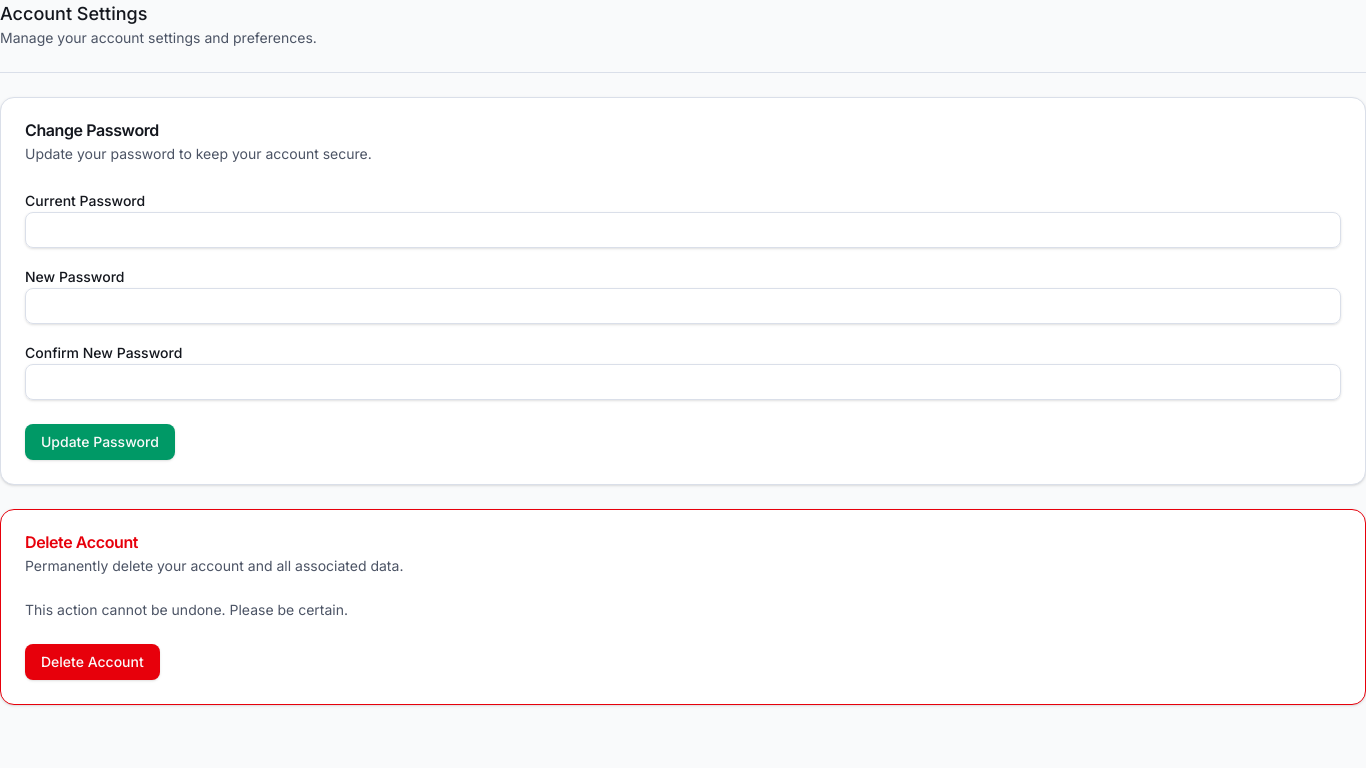
Test case: DashboardSettings › disables the button while deletion is in progress
Click the button "Delete Account".
click(92, 662)  # box x1=25 y1=644 x2=160 y2=680
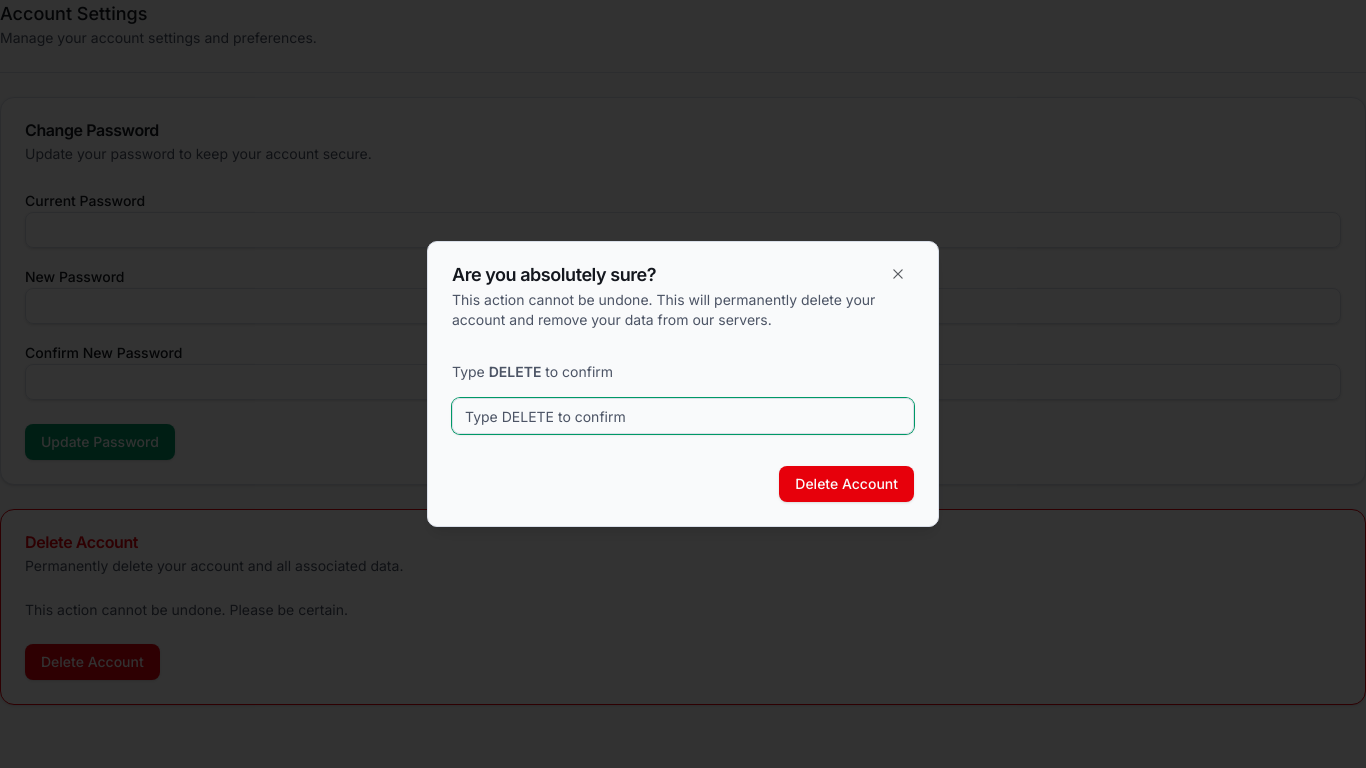
Expected: the heading "Are you absolutely sure?" is shown, x1=452 y1=264 x2=656 y2=285
// Type DELETE
Type "DELETE" into the field with placeholder "Type DELETE to confirm".
click(683, 416); type("DELETE")  # box x1=452 y1=398 x2=914 y2=434
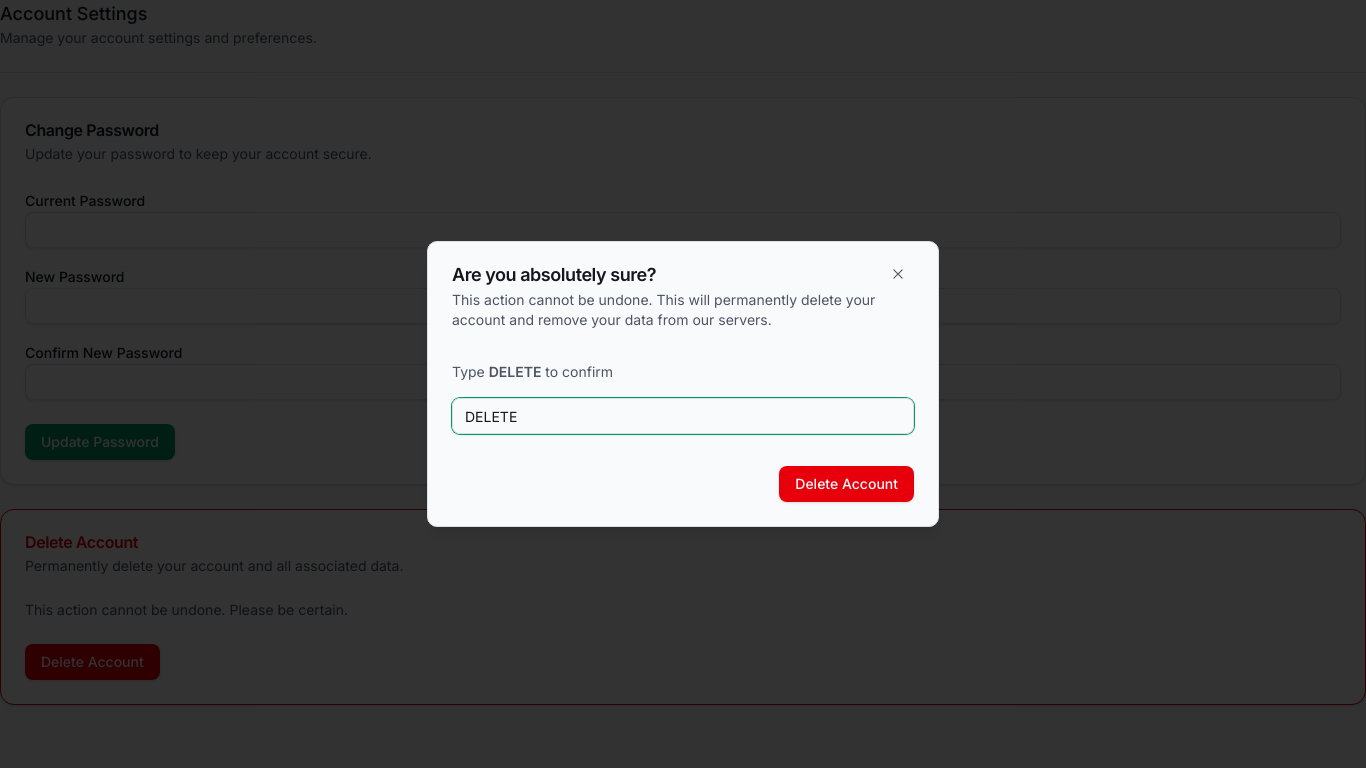
Click the button "Delete Account".
click(847, 484)  # box x1=779 y1=466 x2=914 y2=502
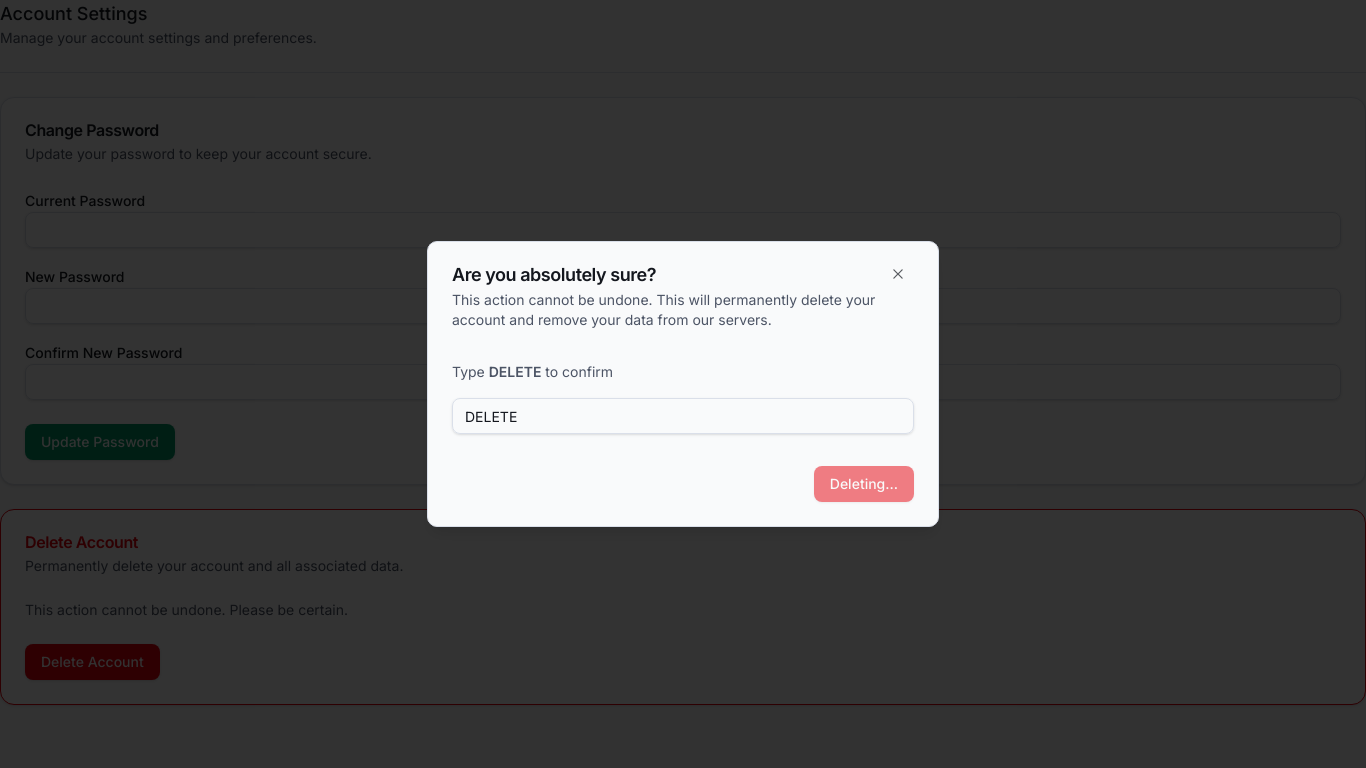
Expected: the button "Deleting..." is shown, x1=814 y1=466 x2=914 y2=502
